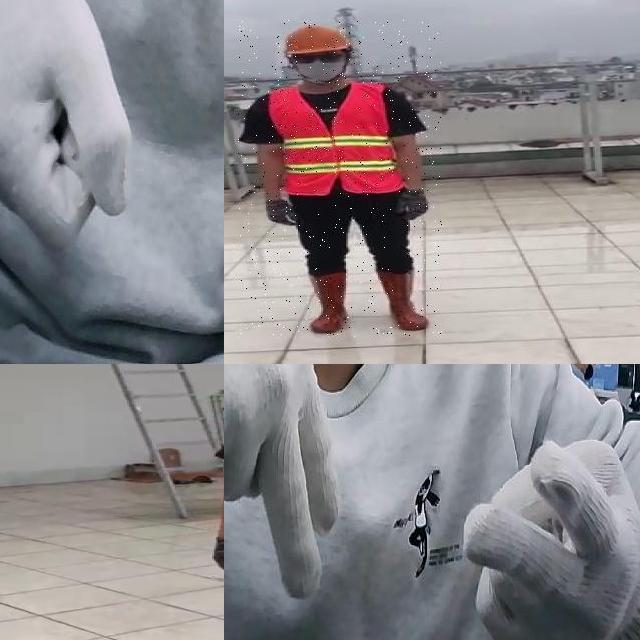BOOTS: (374, 269, 432, 330), (305, 272, 351, 334)
GLASS: (290, 50, 348, 66)
GLOVE: (461, 437, 640, 640), (0, 0, 134, 244), (224, 364, 339, 605), (397, 184, 432, 220), (202, 528, 224, 580), (265, 198, 299, 228)
HELMET: (278, 23, 352, 55)
VEST: (266, 84, 403, 196)
